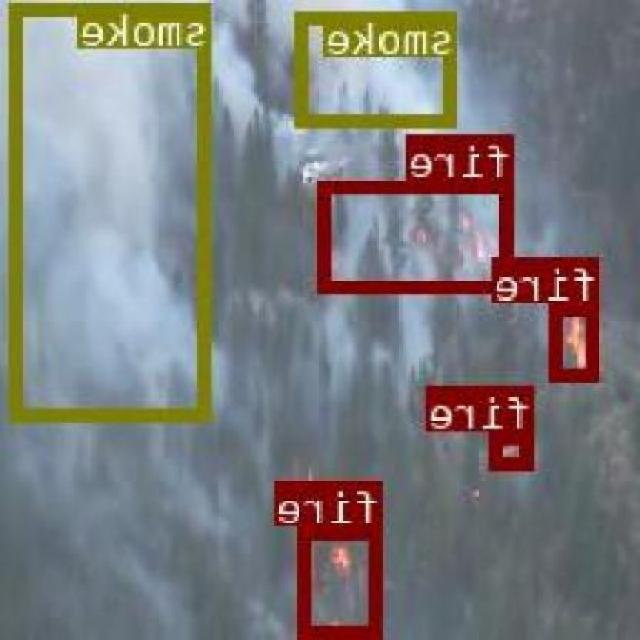Fire: (553, 314, 590, 368), (318, 537, 360, 575)
Smoke: (0, 0, 640, 640)
